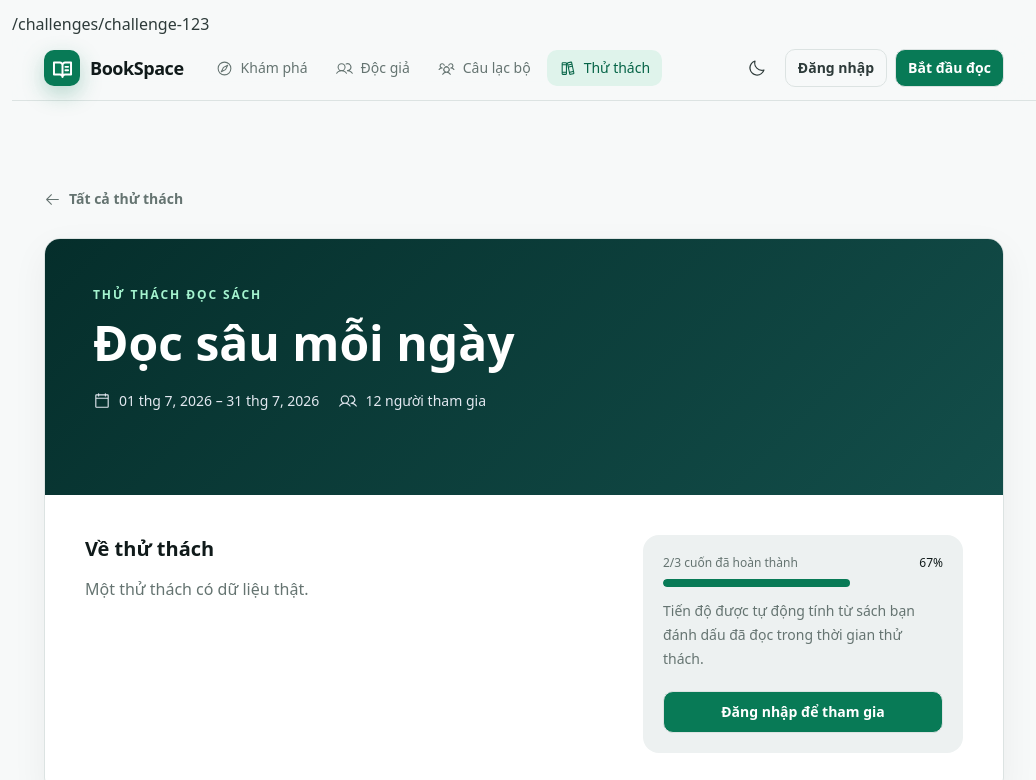
production challenge routes › returns to the intended challenge after login from the detail CTA
The width and height of the screenshot is (1036, 780).
Step 1. Click the link "Đăng nhập để tham gia" → (803, 712), box [663,690,943,732]
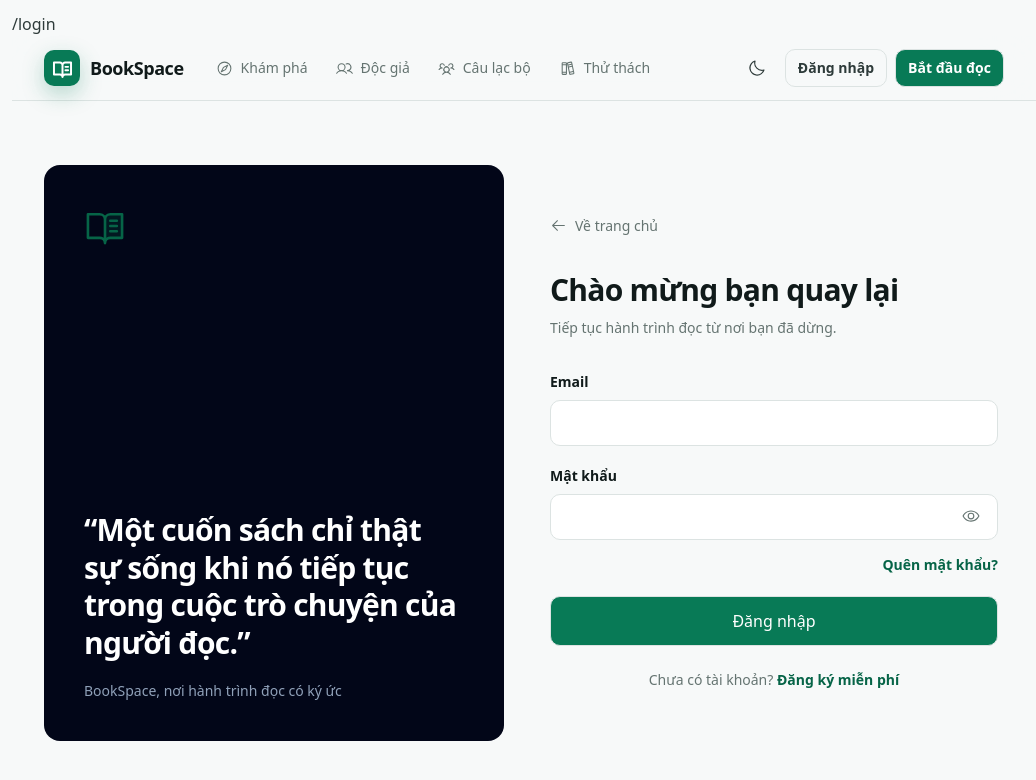
Expected: the text with test id "current-location" reads "/login", [12,13,56,35]
Expected: the heading "Chào mừng bạn quay lại" is shown, [550,269,898,310]
Step 2. Type "reader@example.com" into the field labelled "Email" → (774, 423), box [550,400,998,446]
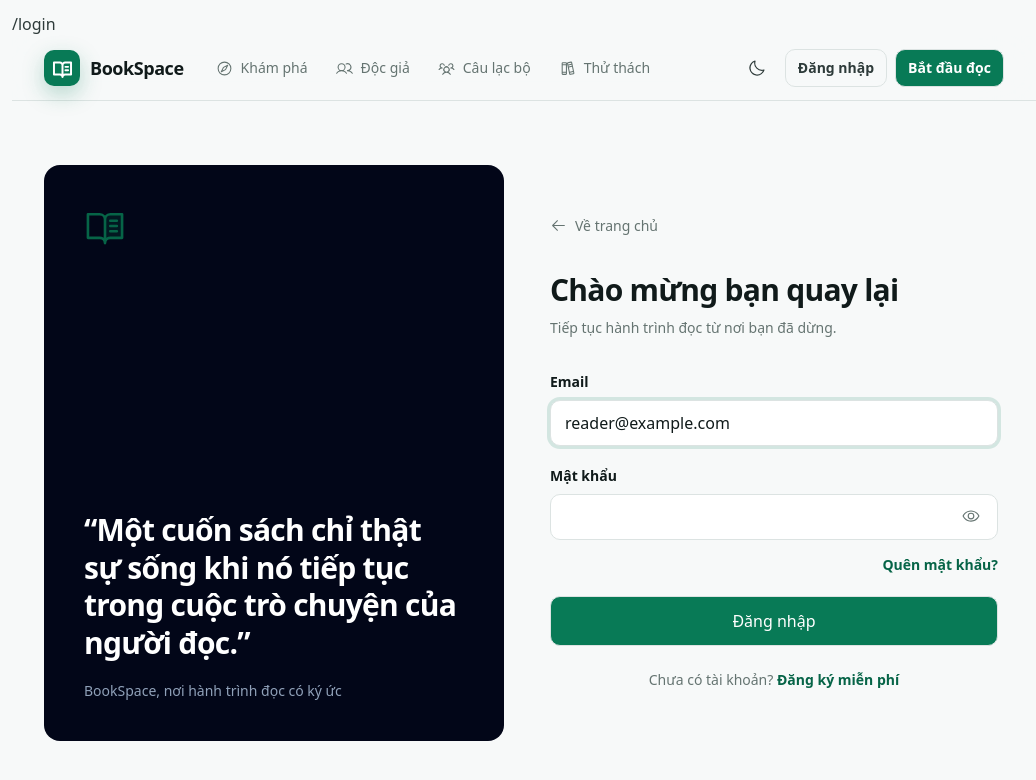
Step 3. Type "password123" into the password field labelled "Mật khẩu" → (774, 517), box [550,494,998,540]
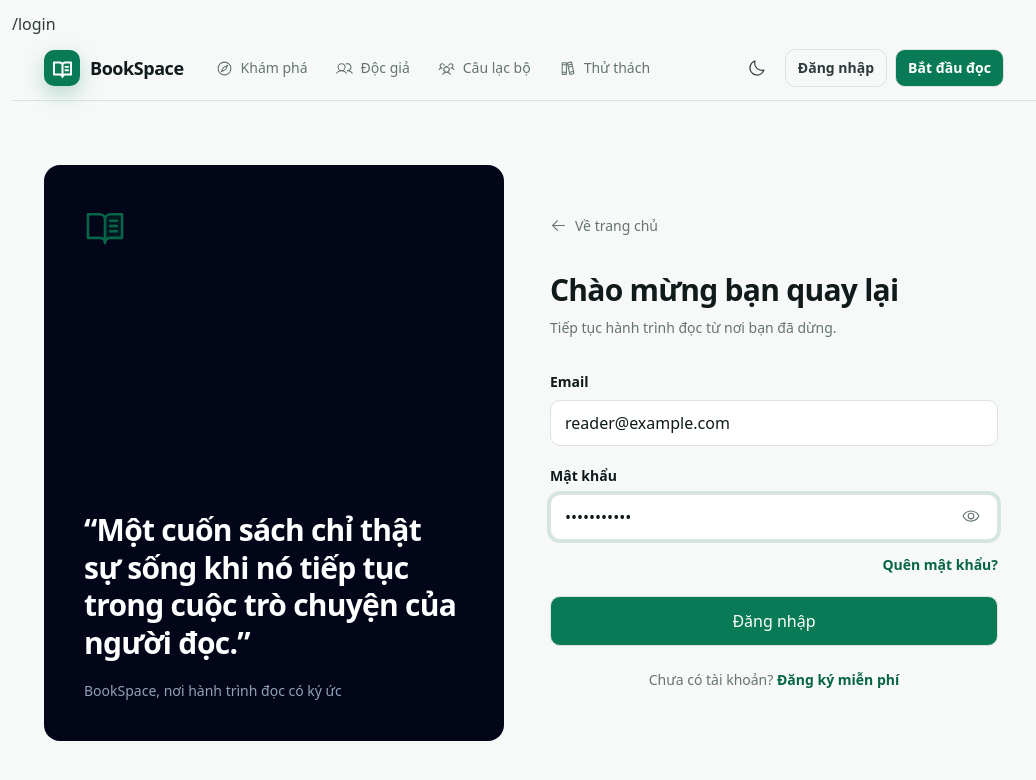
Step 4. Click the button "Đăng nhập" → (774, 621), box [550,596,998,646]
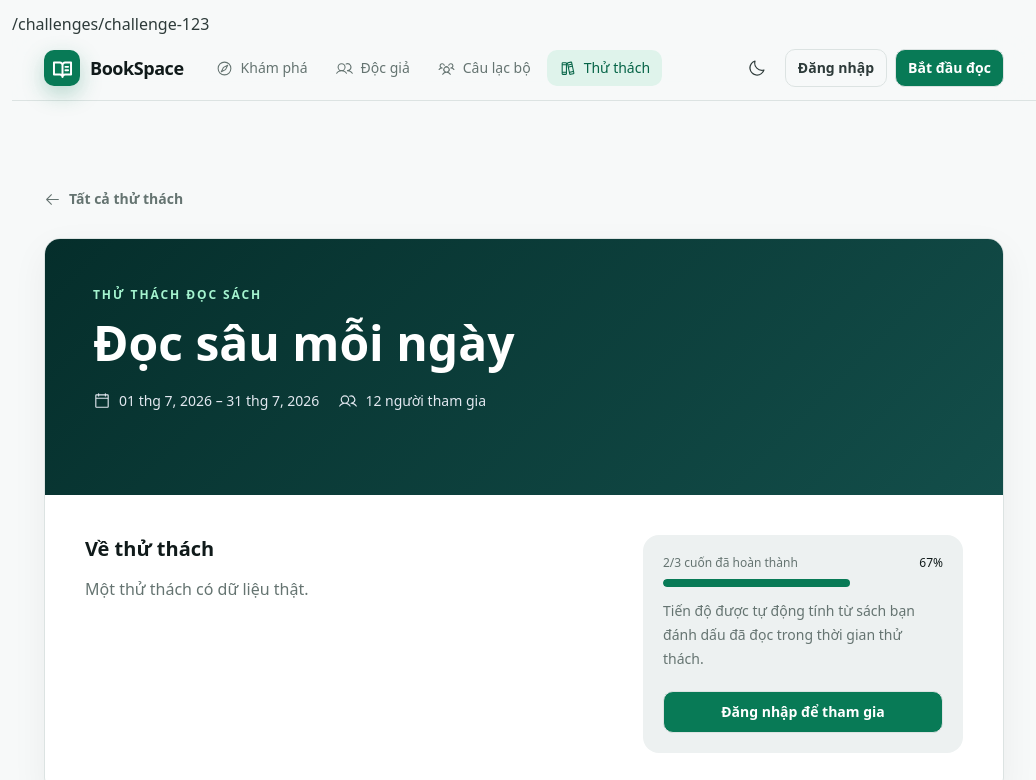
Expected: the text with test id "current-location" reads "/challenges/challenge-123", [12,13,209,35]
Expected: the heading "Đọc sâu mỗi ngày" is shown, [93,310,514,374]
